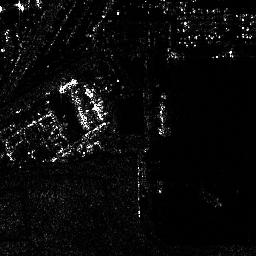ship: (155, 90, 171, 137)
